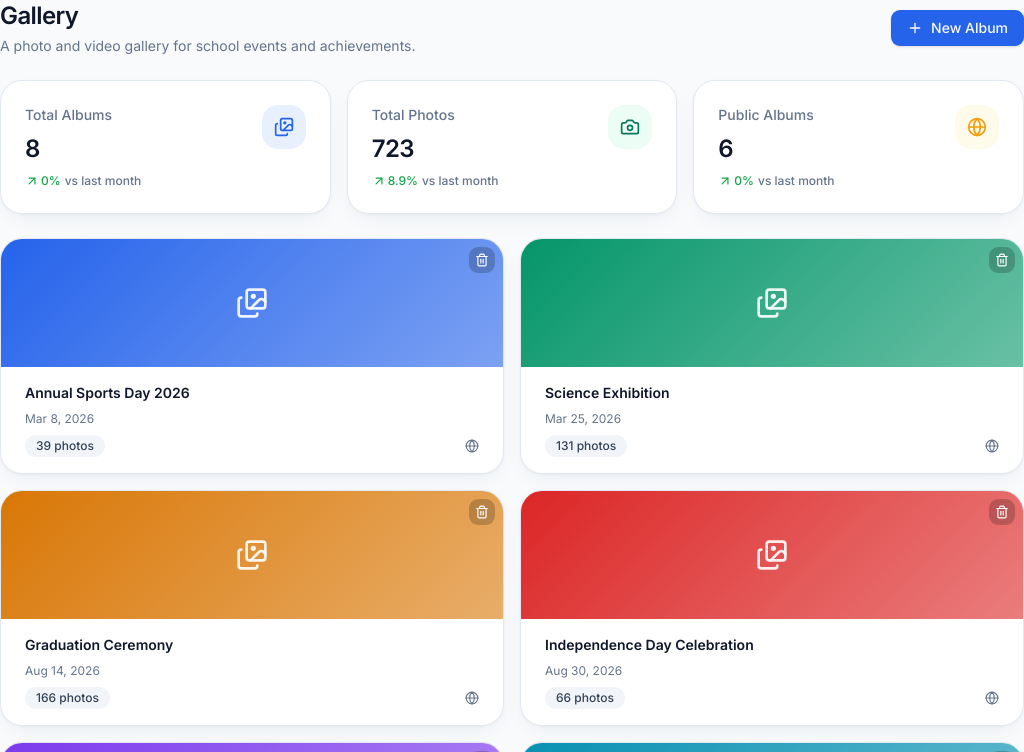
GalleryPage — role-gated album creation › creates a new album scoped to the current school, defaulting to public
This screenshot has width=1024, height=752.
Click the button "New Album".
click(958, 28)  # box [891, 10, 1023, 46]
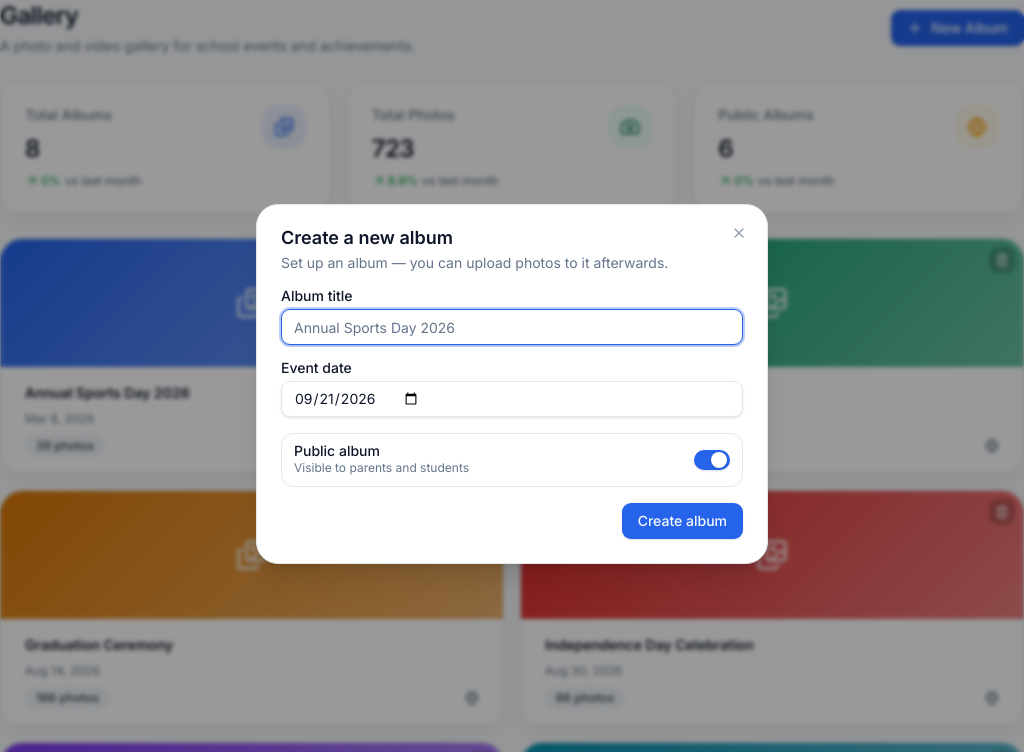
Type "QA Test Album" into the field labelled "Album title".
click(512, 327); type("QA Test Album")  # box [281, 309, 743, 345]
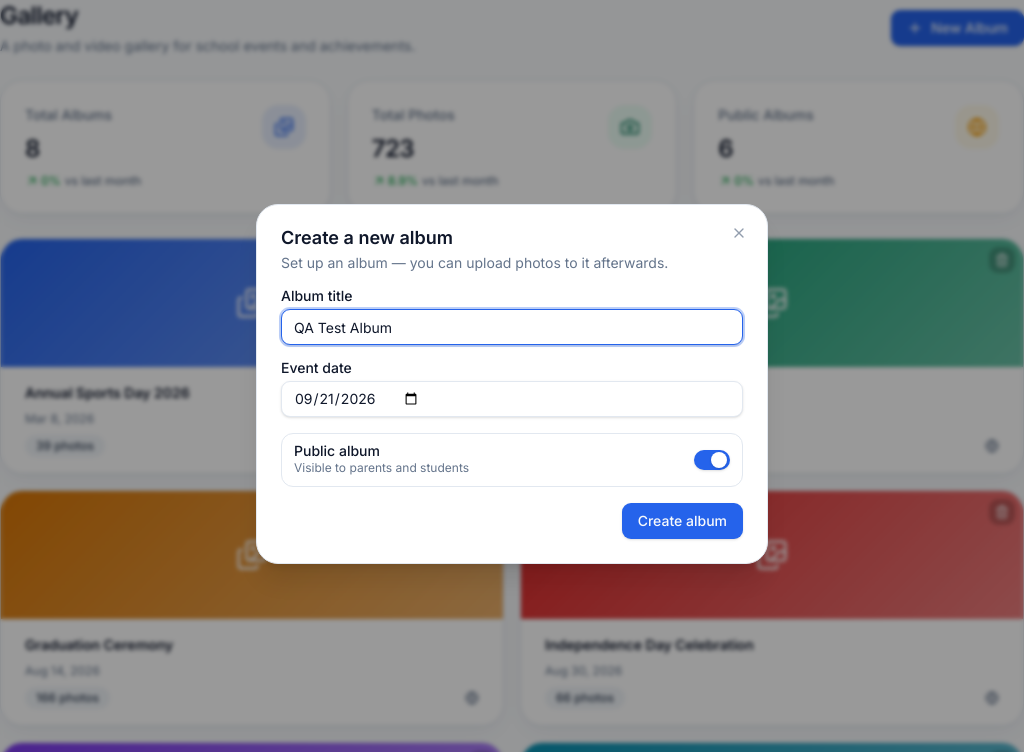
Click the button "Create album".
click(682, 521)  # box [622, 503, 743, 539]
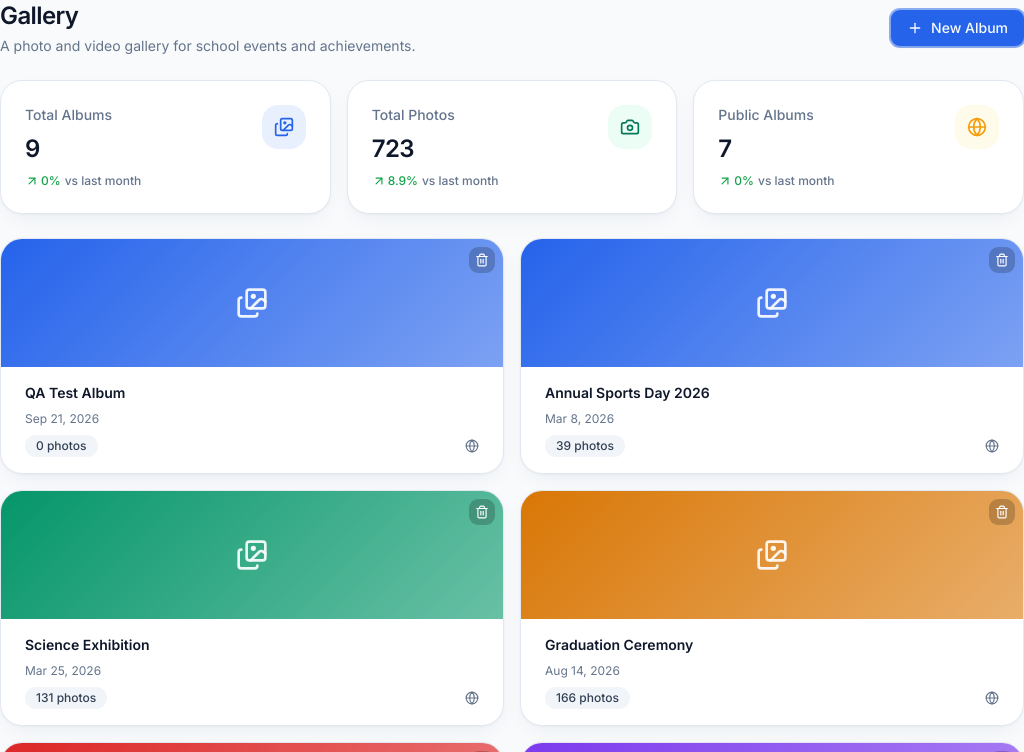
Expected: the text "QA Test Album" is shown, [25, 384, 125, 401]
